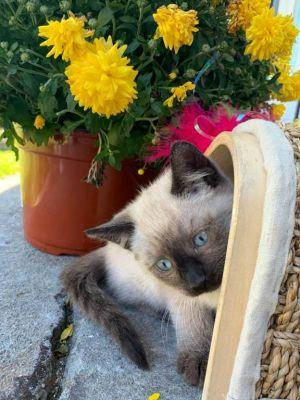siamese: (79, 133, 250, 307)
